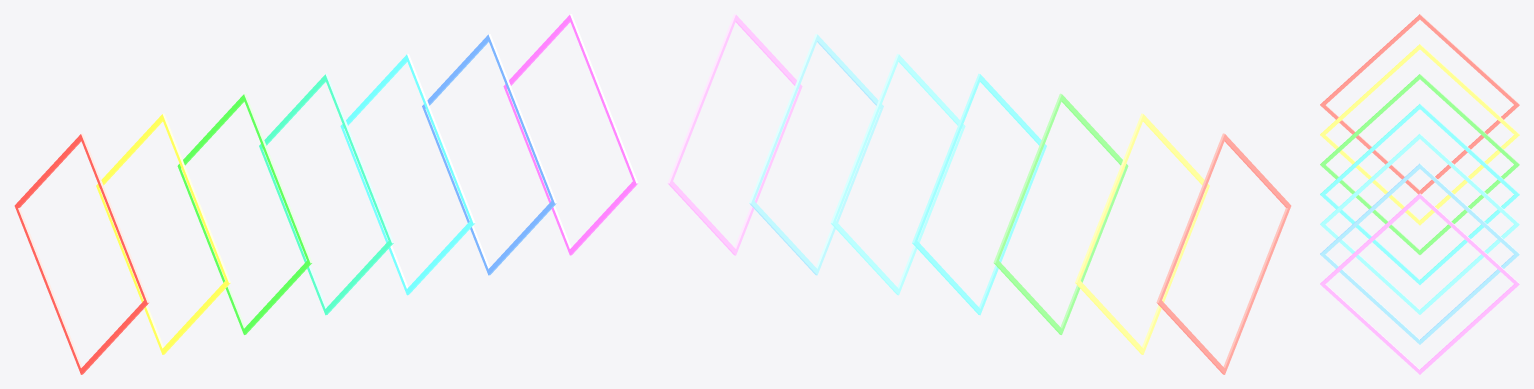
The model's file is DingoDenEntrence.glb.
3 renders of one model, left to right at view 1: azimuth 30°, elevation 25°; view 2: azimuth 150°, elevation 25°; view 3: azimuth 270°, elevation 25°, orthographic. The views are drawn at different scales.
Parts seen in each view (by area): view 1: Cube, Cube.002, Cube.004, Cube.003, Cube.001, Cube.005, Cube.006; view 2: Cube, Cube.002, Cube.004, Cube.003, Cube.001, Cube.005, Cube.006; view 3: Cube.006, Cube.005, Cube.004, Cube.003, Cube.002, Cube.001, Cube.
Boxes of the visible parts, bbox=[...] form: Cube: bbox=[14, 133, 149, 374]; Cube.002: bbox=[177, 93, 312, 334]; Cube.004: bbox=[340, 54, 475, 295]; Cube.003: bbox=[259, 73, 393, 315]; Cube.001: bbox=[96, 113, 230, 354]; Cube.005: bbox=[422, 34, 556, 275]; Cube.006: bbox=[503, 14, 638, 255]; Cube: bbox=[1156, 133, 1291, 374]; Cube.002: bbox=[993, 93, 1128, 334]; Cube.004: bbox=[830, 54, 965, 295]; Cube.003: bbox=[912, 73, 1046, 315]; Cube.001: bbox=[1075, 113, 1209, 354]; Cube.005: bbox=[749, 34, 883, 275]; Cube.006: bbox=[667, 14, 802, 255]; Cube.006: bbox=[1320, 193, 1519, 374]; Cube.005: bbox=[1320, 163, 1519, 344]; Cube.004: bbox=[1320, 134, 1519, 314]; Cube.003: bbox=[1320, 104, 1519, 284]; Cube.002: bbox=[1320, 74, 1519, 254]; Cube.001: bbox=[1320, 44, 1519, 225]; Cube: bbox=[1320, 14, 1519, 194].
Bounding box in the file's own units: 24.32 × 11.42 × 11.42.
